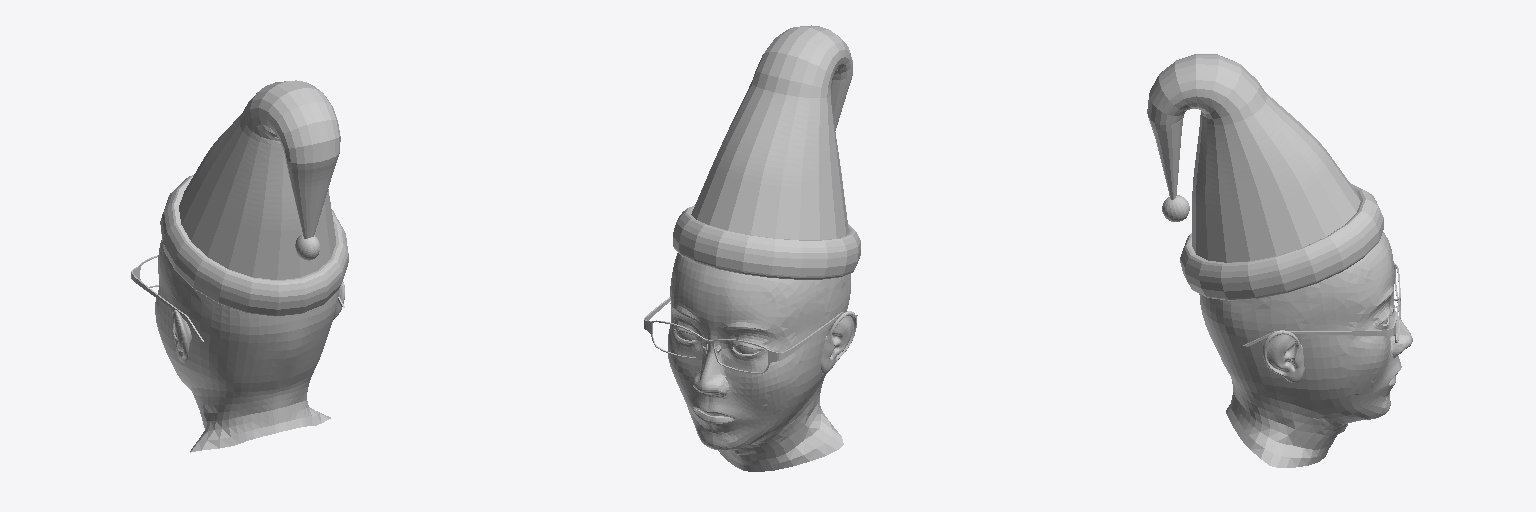
The model's file is myhead.obj.
The picture shows the model from 3 angles: view 1: azimuth 30°, elevation 25°; view 2: azimuth 150°, elevation 25°; view 3: azimuth 270°, elevation 25°; orthographic projection.
Parts seen in each view (by area): view 1: Hat_Untitled.001, Head_Untitled.004; view 2: Hat_Untitled.001, Head_Untitled.004, Glasses_Untitled.002; view 3: Hat_Untitled.001, Head_Untitled.004, Glasses_Untitled.002.
Part boxes in pixels (x1,y1,x2,y2): Hat_Untitled.001: (160,80,348,316); Head_Untitled.004: (155,240,344,452); Hat_Untitled.001: (673,25,860,279); Head_Untitled.004: (668,253,856,471); Glasses_Untitled.002: (644,297,857,373); Hat_Untitled.001: (1147,54,1383,300); Head_Untitled.004: (1199,232,1412,467); Glasses_Untitled.002: (1243,263,1400,346).
Bounding box in the file's own units: 1.66 × 3.79 × 2.31.